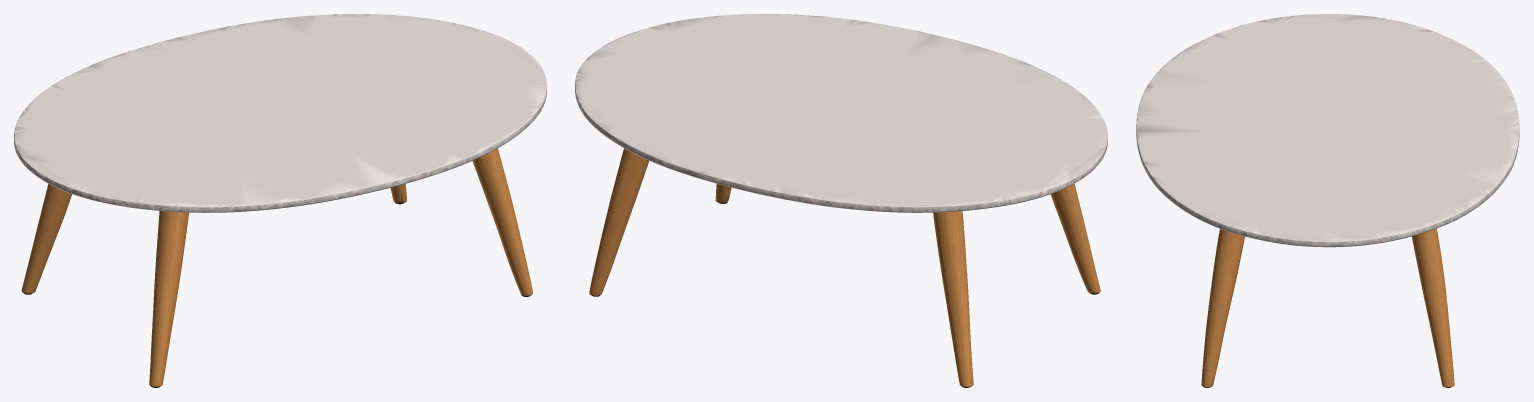
The model's file is coffee-table-oval.glb.
3 views of the same model, side by side, from view 1: azimuth 30°, elevation 25°; view 2: azimuth 150°, elevation 25°; view 3: azimuth 270°, elevation 25° (orthographic). The views are drawn at different scales.
Parts seen in each view (by area): view 1: Mesh_0; view 2: Mesh_0; view 3: Mesh_0.
Boxes of the visible parts, x1,y1,x2,y2 form: Mesh_0: [14, 14, 546, 387]; Mesh_0: [575, 14, 1107, 387]; Mesh_0: [1136, 14, 1519, 387].
Bounding box in the file's own units: 1.2 × 0.4277 × 0.8537.
Materials: 1 (1 with a texture image).
